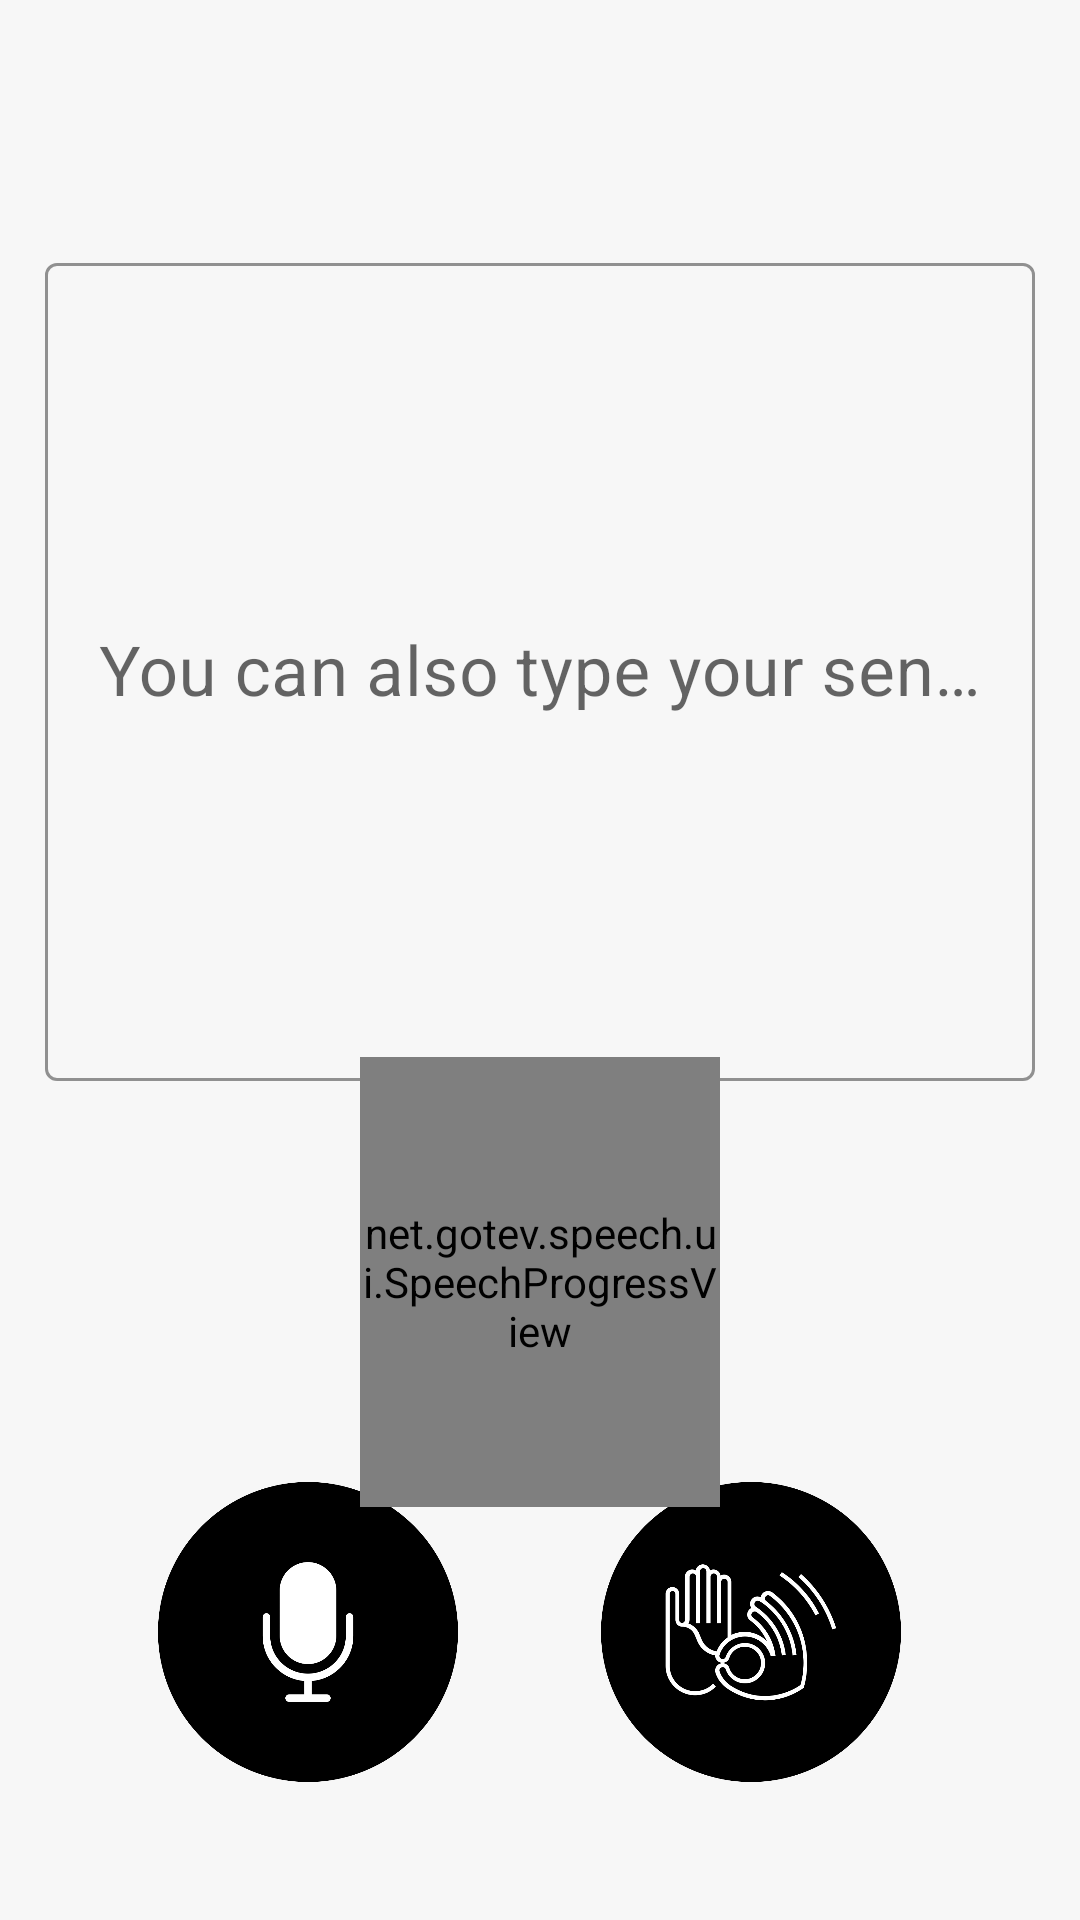

Screen size 1080x1920. Icon name, then its box in pixels as (x1, y1, x2, y2):
hand: (601, 1482, 901, 1782)
mic: (158, 1482, 458, 1782)
